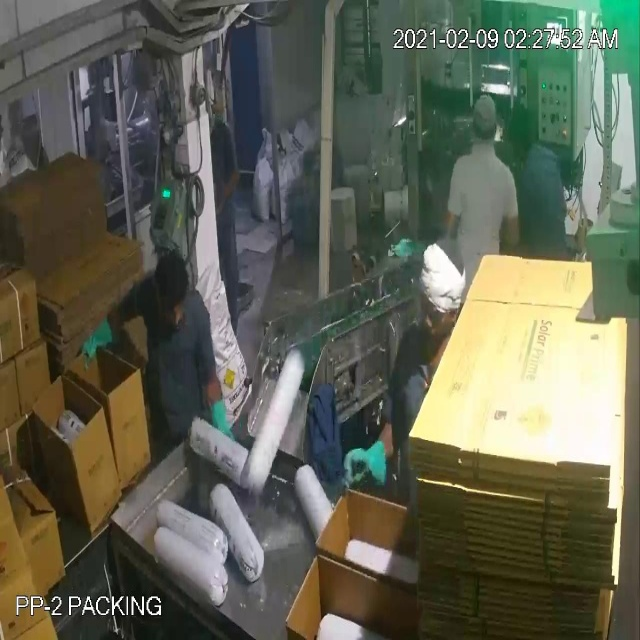Guantes: (334, 441, 395, 505), (70, 308, 120, 374), (199, 393, 246, 452), (212, 162, 242, 211)
